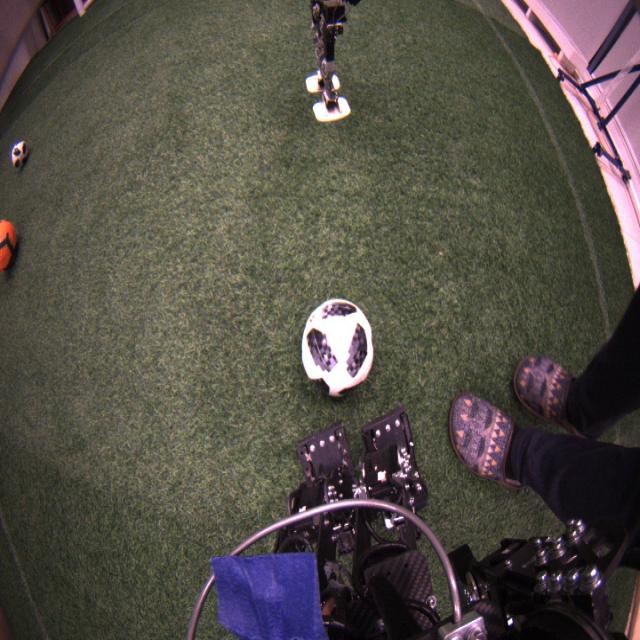ball: (302, 299, 376, 402), (0, 216, 18, 276), (11, 140, 29, 170)
goalpost: (72, 1, 89, 17)
